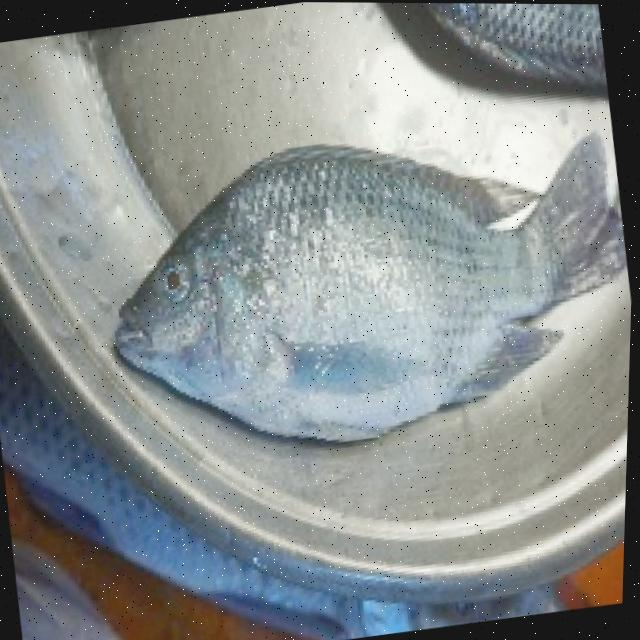Fresh: (93, 113, 637, 481)
